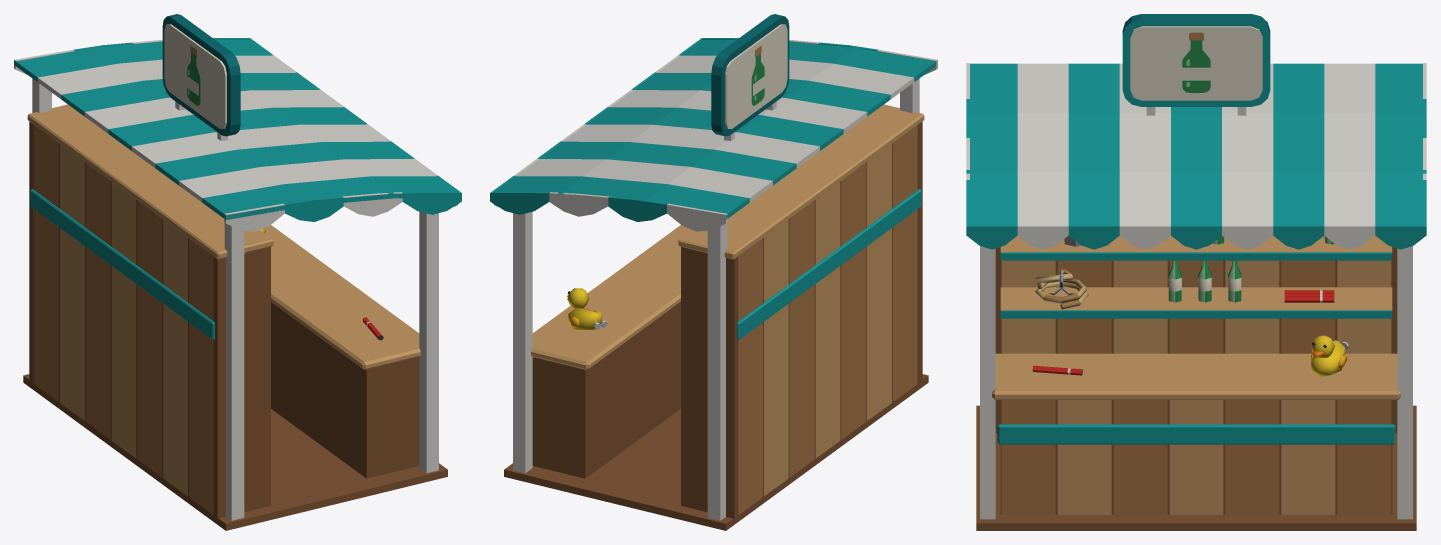
The model's file is stall_equipment.glb.
The picture shows the model from 3 angles, left to right: view 1: azimuth 30°, elevation 25°; view 2: azimuth 150°, elevation 25°; view 3: azimuth 270°, elevation 25°; orthographic projection. The views are drawn at different scales.
Visible parts, largest first — view 1: StallEquipment; view 2: StallEquipment; view 3: StallEquipment.
Boxes of the visible parts, x1,y1,x2,y2 form: StallEquipment: (14,14,461,530); StallEquipment: (490,14,937,530); StallEquipment: (966,14,1426,530).
Bounding box in the file's own units: 2.08 × 3.4 × 3.24.
